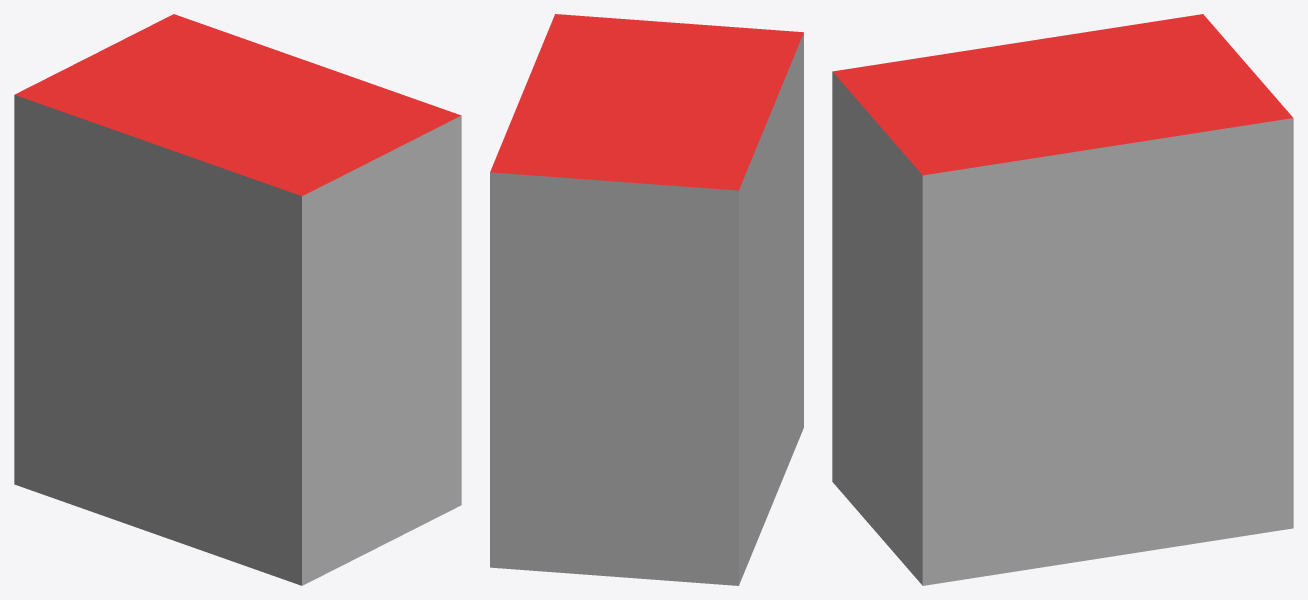
Rendered from DEBE3D04YY50002ccj.dae.
The picture shows the model from 3 angles, left to right: view 1: azimuth 30°, elevation 25°; view 2: azimuth 150°, elevation 25°; view 3: azimuth 270°, elevation 25°; orthographic projection. The views are drawn at different scales.
Size of the model in its own units: 2.85 by 3.43 by 3.38.
